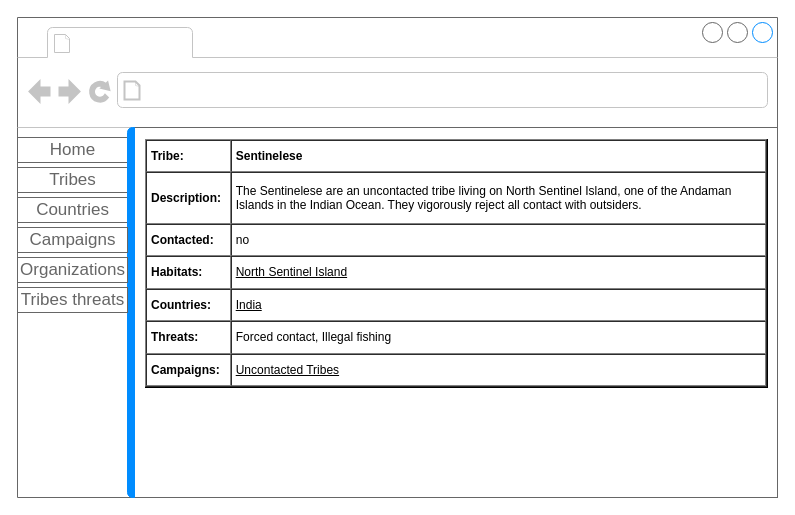
The diagram is 795 pixels wide and 515 high, and some of its shapes have lost their labels. Here are the shapes that lost their labels. From the top down, the centre of each, then its label:
[132,42]: Survival Inte...
[272,90]: https://www.sioex.org/
